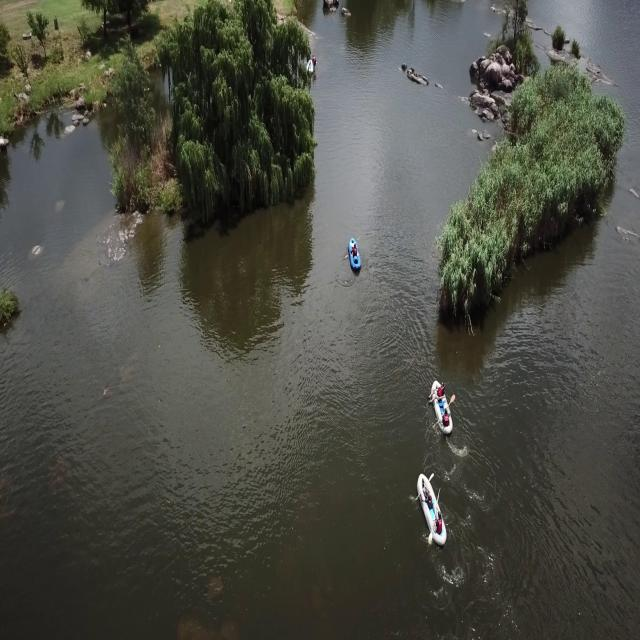kayak: (409, 471, 454, 548), (429, 381, 453, 435), (347, 238, 362, 276)
